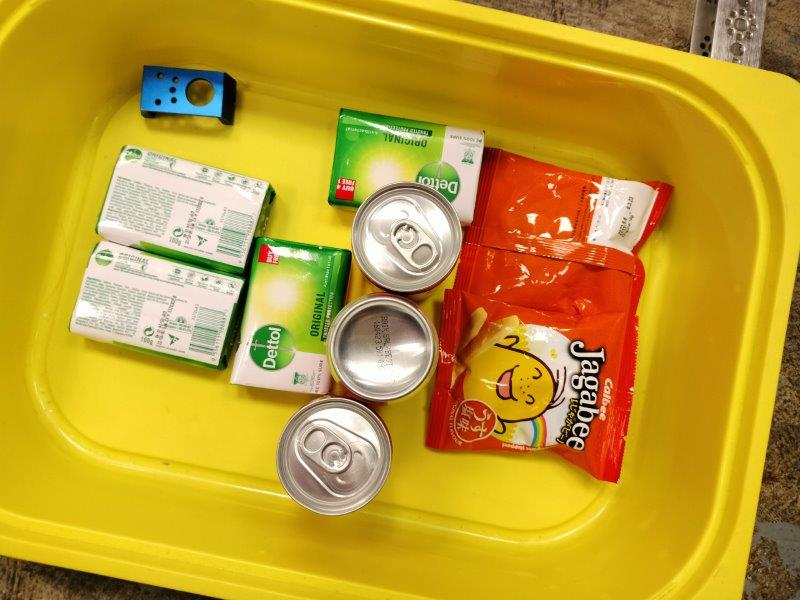Coke: (278, 400, 392, 515), (355, 183, 459, 292), (331, 297, 432, 398)
Dettol: (97, 147, 273, 275), (72, 243, 243, 368), (233, 239, 350, 392), (332, 109, 485, 223)
Jagabee: (454, 151, 673, 336), (429, 292, 634, 481)
